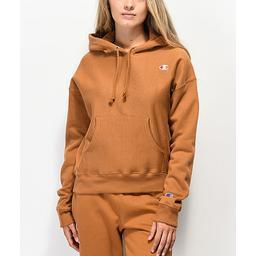sweater: (55, 32, 200, 227)
